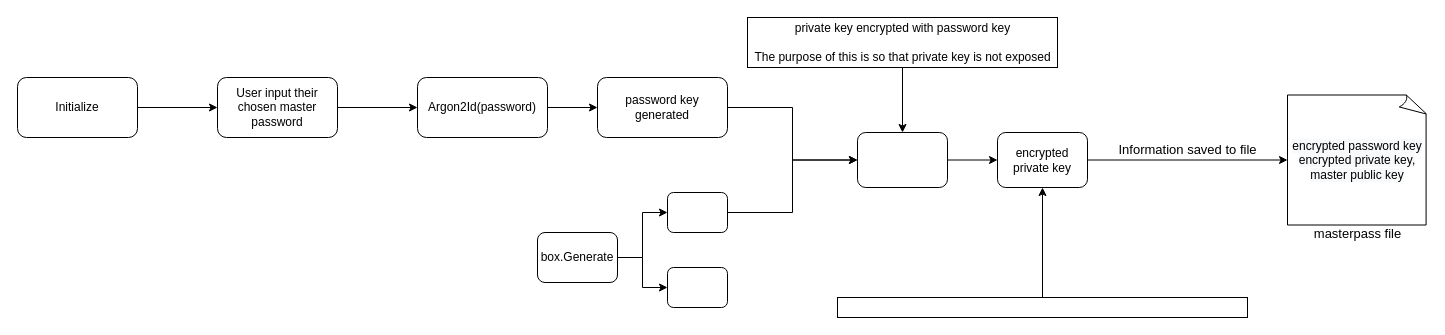
Some shapes in this 1445 by 335 pixel diagram are drawn without their labels. The centre of each missing label's shape, as x and y in pixels:
private key: point (697, 212)
public key: point (697, 287)
Purpose of encrypted private key is for decryption of stored sites password: point (1042, 307)
secretBox.Seal: point (902, 160)
